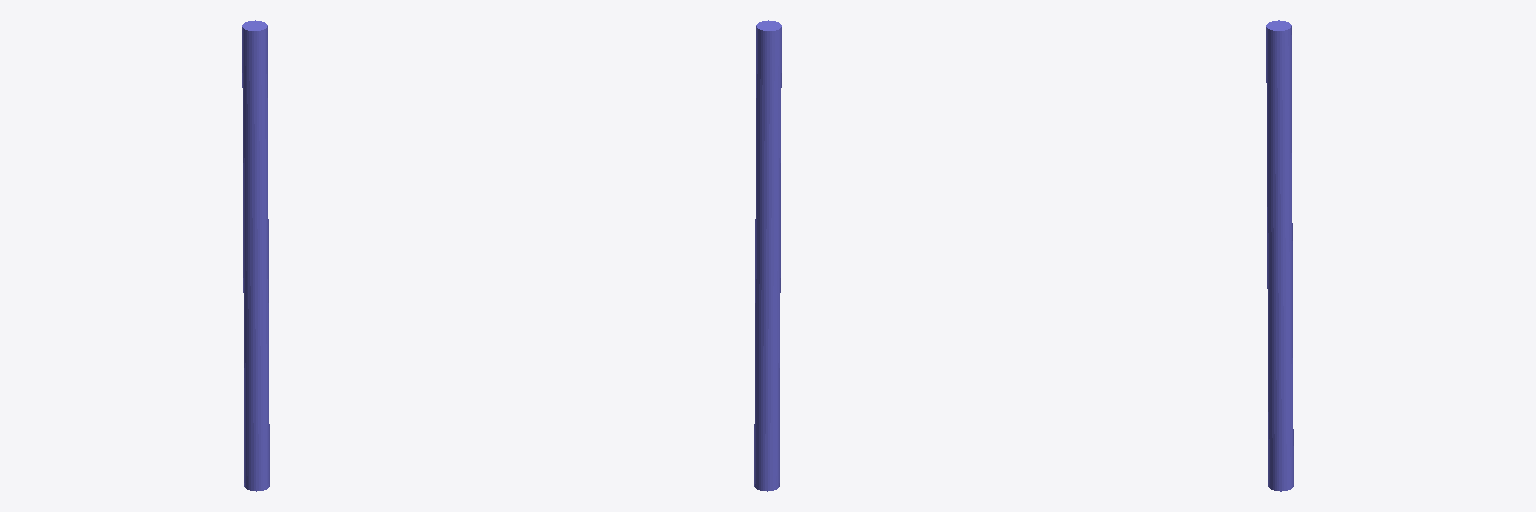
URDF robot description (panda):
<?xml version='1.0' encoding='utf-8'?>
<robot name="panda">

    <link name="link0">
      <inertial>
        <origin xyz="0 0 0.05" rpy="0 0 0" />
        <mass value="4" />
        <inertia ixx="0.4" iyy="0.4" izz="0.4" ixy="0" ixz="0" iyz="0" />
      </inertial>
      <visual>
        <geometry>
          <mesh filename="../../../Model/meshes/visual/link0.obj"/>
        </geometry>
      </visual>
<!--       <collision>
        <geometry>
          <mesh filename="../../../Model/meshes/collision/link0.obj"/>
        </geometry>
      </collision> -->
    </link>
    <link name="link1">
      <inertial>
        <origin xyz="0 0 -0.07" rpy="0 -0 0" />
        <mass value="3" />
        <inertia ixx="0.3" iyy="0.3" izz="0.3" ixy="0" ixz="0" iyz="0" />
      </inertial>
      <visual>
        <geometry>
          <mesh filename="../../../Model/meshes/visual/link1.obj"/>
        </geometry>
      </visual>
      <!-- <collision>
        <geometry>
          <mesh filename="../../../Model/meshes/collision/link1.obj"/>
        </geometry>
      </collision> -->
    </link>
    <link name="link2">
      <inertial>
        <origin xyz="0 -0.1 0" rpy="0 -0 0" />
        <mass value="3" />
        <inertia ixx="0.3" iyy="0.3" izz="0.3" ixy="0" ixz="0" iyz="0" />
      </inertial>
      <visual>
        <geometry>
          <mesh filename="../../../Model/meshes/visual/link2.obj"/>
        </geometry>
      </visual>
      <!-- <collision>
        <geometry>
          <mesh filename="../../../Model/meshes/collision/link2.obj"/>
        </geometry>
      </collision> -->
    </link>
    <link name="link3">
      <inertial>
        <origin xyz="0.04 0 -0.05" rpy="0 -0 0" />
        <mass value="2" />
        <inertia ixx="0.2" iyy="0.2" izz="0.2" ixy="0" ixz="0" iyz="0" />
      </inertial>
      <visual>
        <geometry>
          <mesh filename="../../../Model/meshes/visual/link3.obj"/>
        </geometry>
      </visual>
      <!-- <collision>
        <geometry>
          <mesh filename="../../../Model/meshes/collision/link3.obj"/>
        </geometry>
      </collision> -->
    </link>
    <link name="link4">
      <inertial>
        <origin xyz="-0.04 0.05 0" rpy="0 -0 0" />
        <mass value="2" />
        <inertia ixx="0.2" iyy="0.2" izz="0.2" ixy="0" ixz="0" iyz="0" />
      </inertial>
      <visual>
        <geometry>
          <mesh filename="../../../Model/meshes/visual/link4.obj"/>
        </geometry>
      </visual>
<!--       <collision>
        <geometry>
          <mesh filename="../../../Model/meshes/collision/link4.obj"/>
        </geometry>
      </collision> -->
    </link>
    <link name="link5">
      <inertial>
        <origin xyz="0 0 -0.15" rpy="0 -0 0" />
        <mass value="2" />
        <inertia ixx="0.2" iyy="0.2" izz="0.2" ixy="0" ixz="0" iyz="0" />
      </inertial>
      <visual>
        <geometry>
          <mesh filename="../../../Model/meshes/visual/link5.obj"/>
        </geometry>
      </visual>
<!--       <collision>
        <geometry>
          <mesh filename="../../../Model/meshes/collision/link5.obj"/>
        </geometry>
      </collision> -->
    </link>
    <link name="link6">
      <inertial>
        <origin xyz="0.06 0 0" rpy="0 -0 0" />
        <mass value="1.5" />
        <inertia ixx="0.1" iyy="0.1" izz="0.1" ixy="0" ixz="0" iyz="0" />
      </inertial>
      <visual>
        <geometry>
          <mesh filename="../../../Model/meshes/visual/link6.obj"/>
        </geometry>
      </visual>
      <!-- <collision>
        <geometry>
          <mesh filename="../../../Model/meshes/collision/link6.obj"/>
        </geometry>
      </collision> -->
    </link>
    <link name="link7">
      <inertial>
        <origin xyz="0 0 0.17" rpy="0 -0 0" />
        <mass value="1.8" />
        <inertia ixx="0.09" iyy="0.05" izz="0.07" ixy="0" ixz="0" iyz="0" />
      </inertial>
      <visual>
        <geometry>
          <mesh filename="../../../Model/meshes/visual/link7.obj"/>
        </geometry>
      </visual>
      <visual>
        <origin xyz="-0.1 0 0.13" rpy="0 1.5759 0" />
        <geometry>
          <cylinder radius="0.005" length="0.2"/>
        </geometry>
        <material name="material_gray">
          <color rgba="0.5 0.5 0.9 1.0" />
        </material>
      </visual>
      <!-- <collision>
        <geometry>
          <mesh filename="../../../Model/meshes/collision/link7.obj"/>
        </geometry>
      </collision> -->
    </link>
    <joint name="joint1" type="revolute">
      <safety_controller k_position="100.0" k_velocity="40.0" soft_lower_limit="-2.8973" soft_upper_limit="2.8973"/>
      <origin rpy="0 0 0" xyz="0 0 0.333"/>
      <parent link="link0"/>
      <child link="link1"/>
      <axis xyz="0 0 1"/>
      <limit effort="87" lower="-2.8973" upper="2.8973" velocity="2.1750"/>
    </joint>
    <joint name="joint2" type="revolute">
      <safety_controller k_position="100.0" k_velocity="40.0" soft_lower_limit="-1.7628" soft_upper_limit="1.7628"/>
      <origin rpy="-1.57079632679 0 0" xyz="0 0 0"/>
      <parent link="link1"/>
      <child link="link2"/>
      <axis xyz="0 0 1"/>
      <calibration falling="-45.0" />
      <limit effort="87" lower="-1.7628" upper="1.7628" velocity="2.1750"/>
    </joint>
    <joint name="joint3" type="revolute">
      <safety_controller k_position="100.0" k_velocity="40.0" soft_lower_limit="-2.8973" soft_upper_limit="2.8973"/>
      <origin rpy="1.57079632679 0 0" xyz="0 -0.316 0"/>
      <parent link="link2"/>
      <child link="link3"/>
      <axis xyz="0 0 1"/>
      <limit effort="87" lower="-2.8973" upper="2.8973" velocity="2.1750"/>
    </joint>
    <joint name="joint4" type="revolute">
      <safety_controller k_position="100.0" k_velocity="40.0" soft_lower_limit="-3.0718" soft_upper_limit="-0.0698"/>
      <origin rpy="1.57079632679 0 0" xyz="0.0825 0 0"/>
      <parent link="link3"/>
      <child link="link4"/>
      <axis xyz="0 0 1"/>
      <calibration falling="-125.0" />
      <limit effort="87" lower="-3.0718" upper="-0.0698" velocity="2.1750"/>
    </joint>
    <joint name="joint5" type="revolute">
      <safety_controller k_position="100.0" k_velocity="40.0" soft_lower_limit="-2.8973" soft_upper_limit="2.8973"/>
      <origin rpy="-1.57079632679 0 0" xyz="-0.0825 0.384 0"/>
      <parent link="link4"/>
      <child link="link5"/>
      <axis xyz="0 0 1"/>
      <limit effort="12" lower="-2.8973" upper="2.8973" velocity="2.6100"/>
    </joint>
    <joint name="joint6" type="revolute">
      <safety_controller k_position="100.0" k_velocity="40.0" soft_lower_limit="-0.0175" soft_upper_limit="3.7525"/>
      <origin rpy="1.57079632679 0 0" xyz="0 0 0"/>
      <parent link="link5"/>
      <child link="link6"/>
      <axis xyz="0 0 1"/>
      <calibration falling="80.0" />
      <limit effort="12" lower="-0.0175" upper="3.7525" velocity="2.6100"/>
    </joint>
    <joint name="joint7" type="revolute">
      <safety_controller k_position="100.0" k_velocity="40.0" soft_lower_limit="-2.8973" soft_upper_limit="2.8973"/>
      <origin rpy="1.57079632679 0 0" xyz="0.088 0 0"/>
      <parent link="link6"/>
      <child link="link7"/>
      <axis xyz="0 0 1"/>
      <limit effort="12" lower="-2.8973" upper="2.8973" velocity="2.6100"/>
    </joint>
</robot>

--- Facts derived from the render (not from the file) ---
Views: 3 orthographic renders of the robot side by side, from view 1: azimuth 30°, elevation 25°; view 2: azimuth 150°, elevation 25°; view 3: azimuth 330°, elevation 25°.
Model panda with 8 links and 7 joints (7 revolute), rooted at link0, posed all joints at 0 but 1 set to mid-range because 0 is outside their limits (joint4 = -1.57).
Links seen in each view (by area): view 1: link7; view 2: link7; view 3: link7.
Link boxes in pixels (<box>): link7: <box>242,20,269,491</box>; link7: <box>754,20,781,491</box>; link7: <box>1266,20,1293,491</box>.
Bounding box of the posed robot: 0.011 × 0.01 × 0.2 m (x, y, z).
Geometry: only primitive shapes (box / cylinder / sphere) drawn; not drawn: 8 mesh visuals (reference in a form the renderer does not follow).